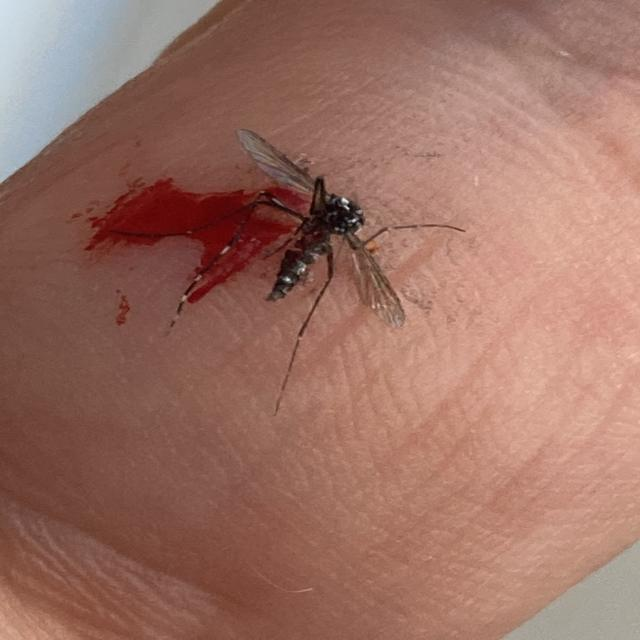albopictus: (114, 120, 468, 410)
